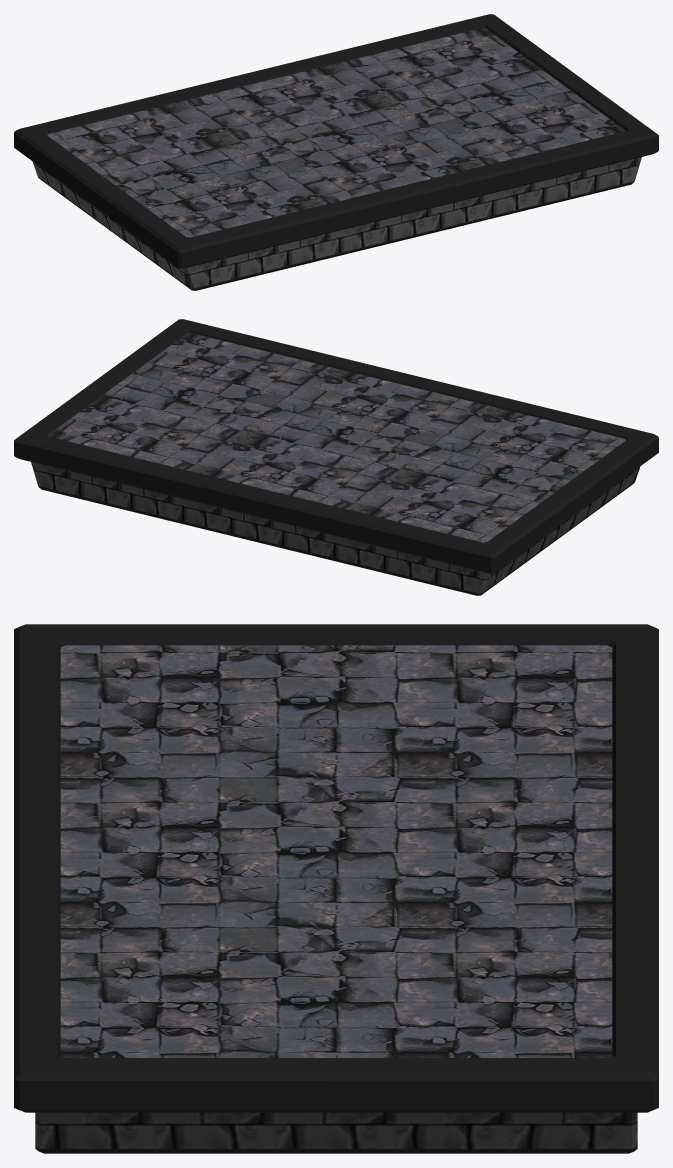
The model's file is M_Platform_5.fbx.
3 renders of one model, top to bottom at view 1: azimuth 30°, elevation 25°; view 2: azimuth 150°, elevation 25°; view 3: azimuth 270°, elevation 25°, orthographic. The views are drawn at different scales.
Parts seen in each view (by area): view 1: M_Platform_5; view 2: M_Platform_5; view 3: M_Platform_5.
Part boxes in pixels (<box>): M_Platform_5: <box>14,14,658,290</box>; M_Platform_5: <box>14,319,658,595</box>; M_Platform_5: <box>14,624,658,1153</box>.
Bounding box in the file's own units: 500 × 49.7 × 300.
